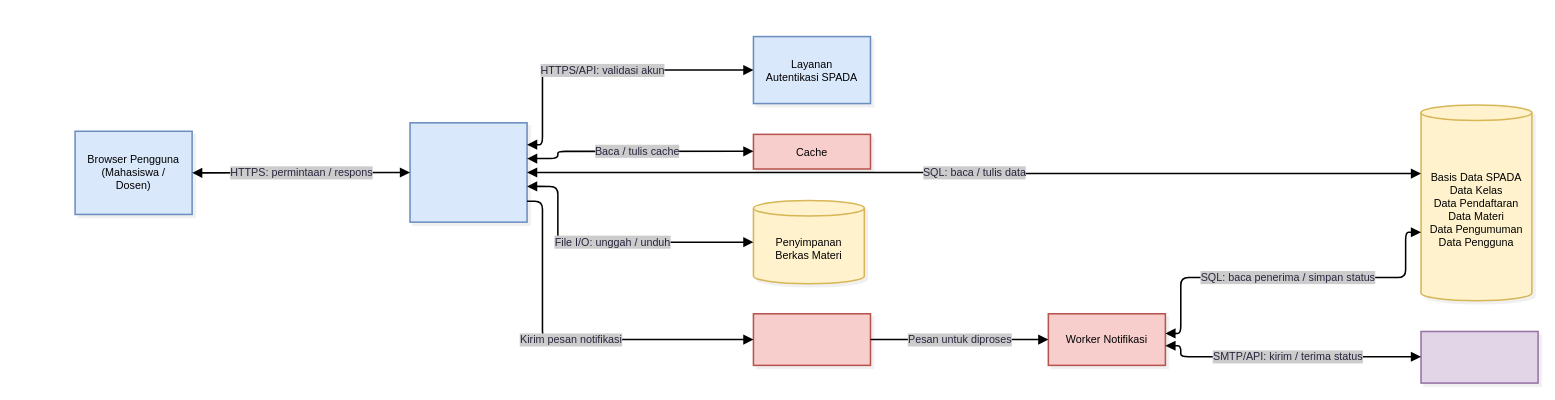
The diagram is 1555 pixels wide and 400 high, and some of its shapes have lost their labels. Each missing label, with the centre of its shape:
"Antrean Notifikasi" goes at point 813,341.
"Gateway Email / Push" goes at point 1481,358.
"Server Aplikasi Kelas (Pendaftaran, Materi, Akses, Pengumuman)" goes at point 470,174.
